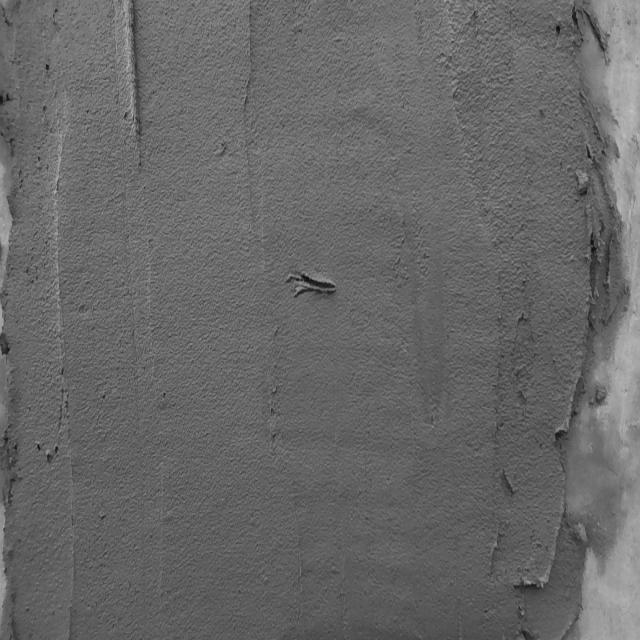trowels marks: (120, 0, 146, 166)
